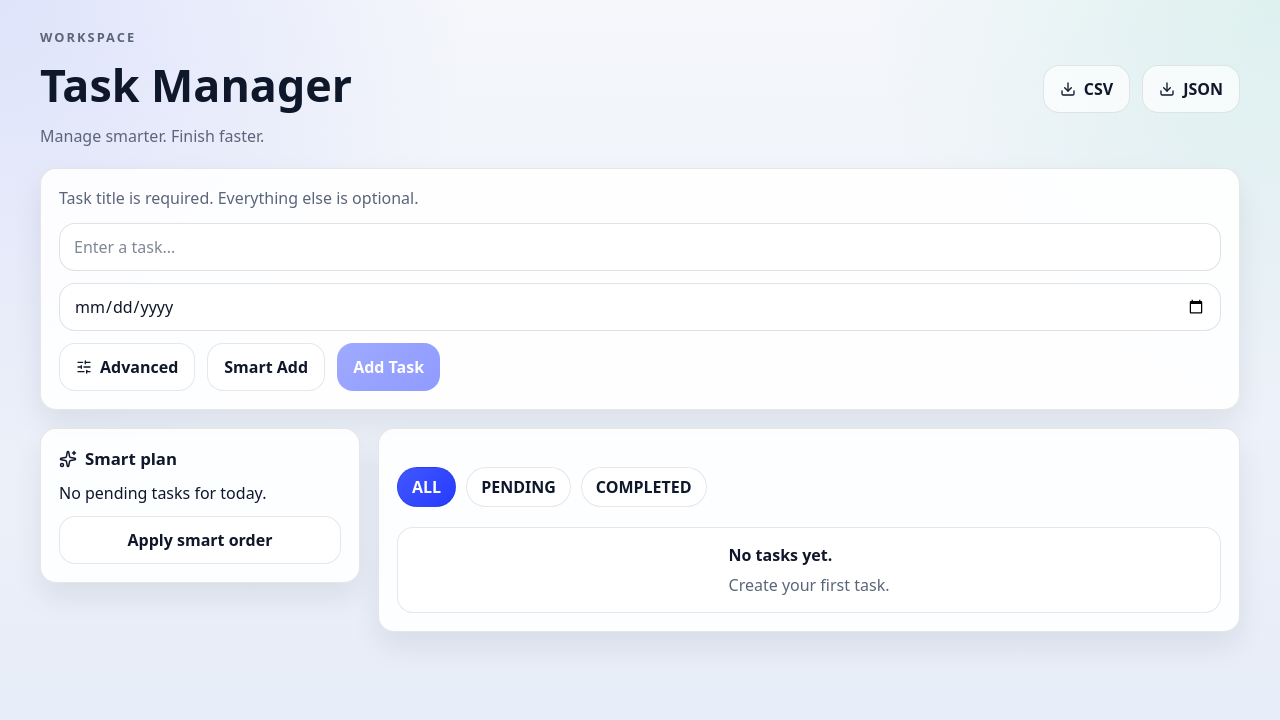
Task Feature Integration › deletes a task when delete button is clicked
The width and height of the screenshot is (1280, 720).
Type "Test Delete Task" into the field with placeholder "Enter a task..." at {"x": 640, "y": 247}, box [59, 223, 1221, 271]
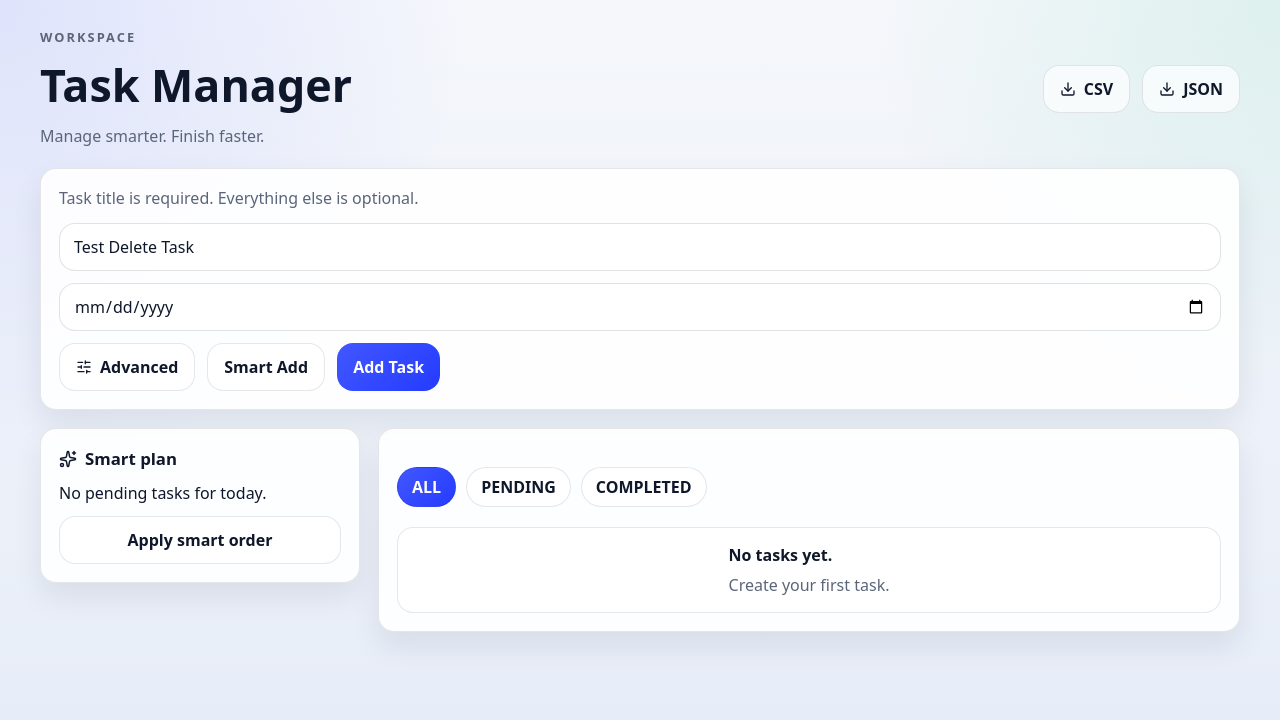
Click the button "Add Task" at {"x": 389, "y": 367}, box [337, 343, 440, 391]
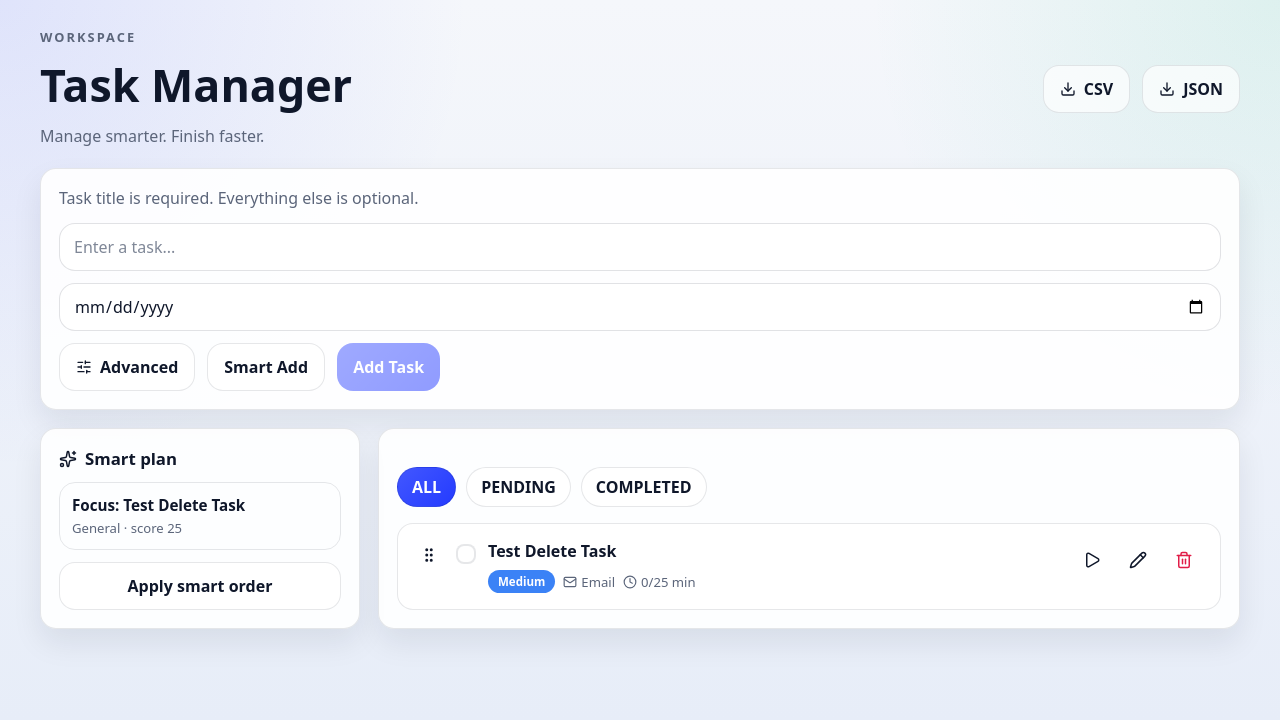
Click the button named "delete test delete task" at {"x": 1184, "y": 560}, box [1164, 540, 1204, 580]
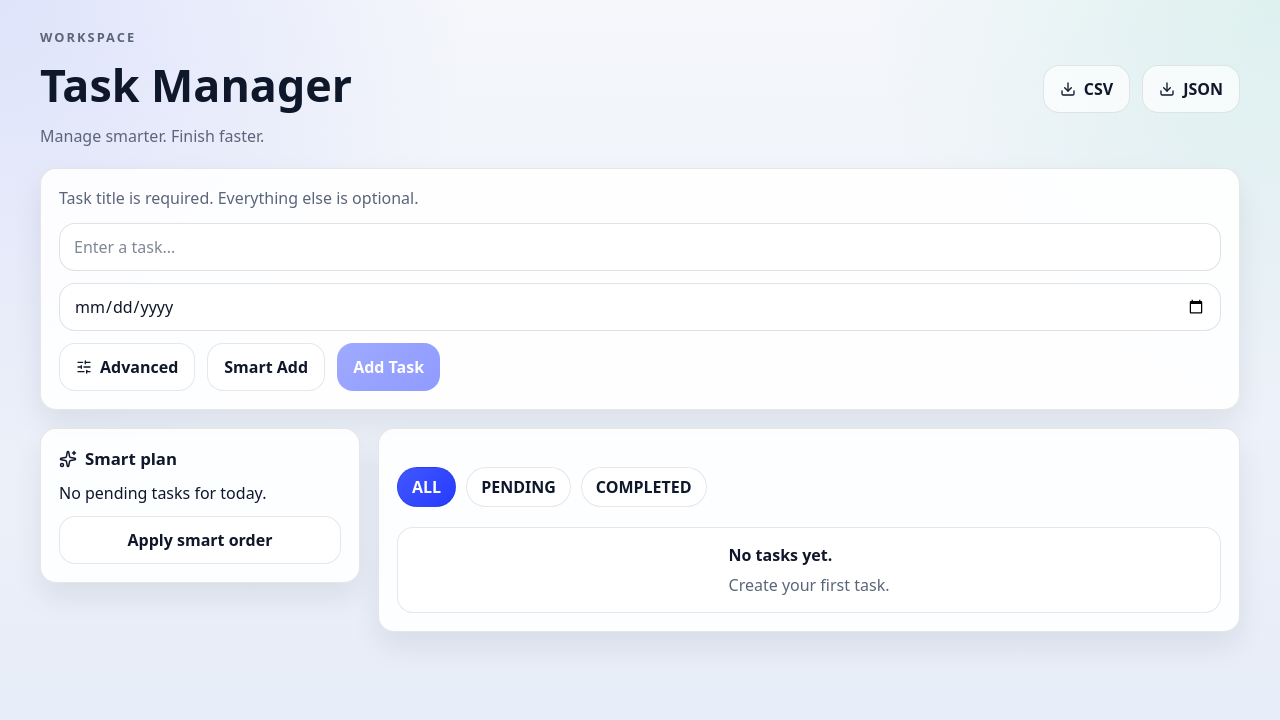
Now the text "Test Delete Task" is gone
